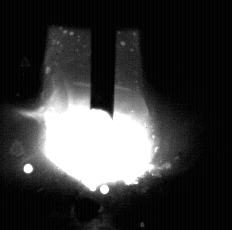arame: (92, 0, 115, 121)
poca: (41, 0, 155, 230)
